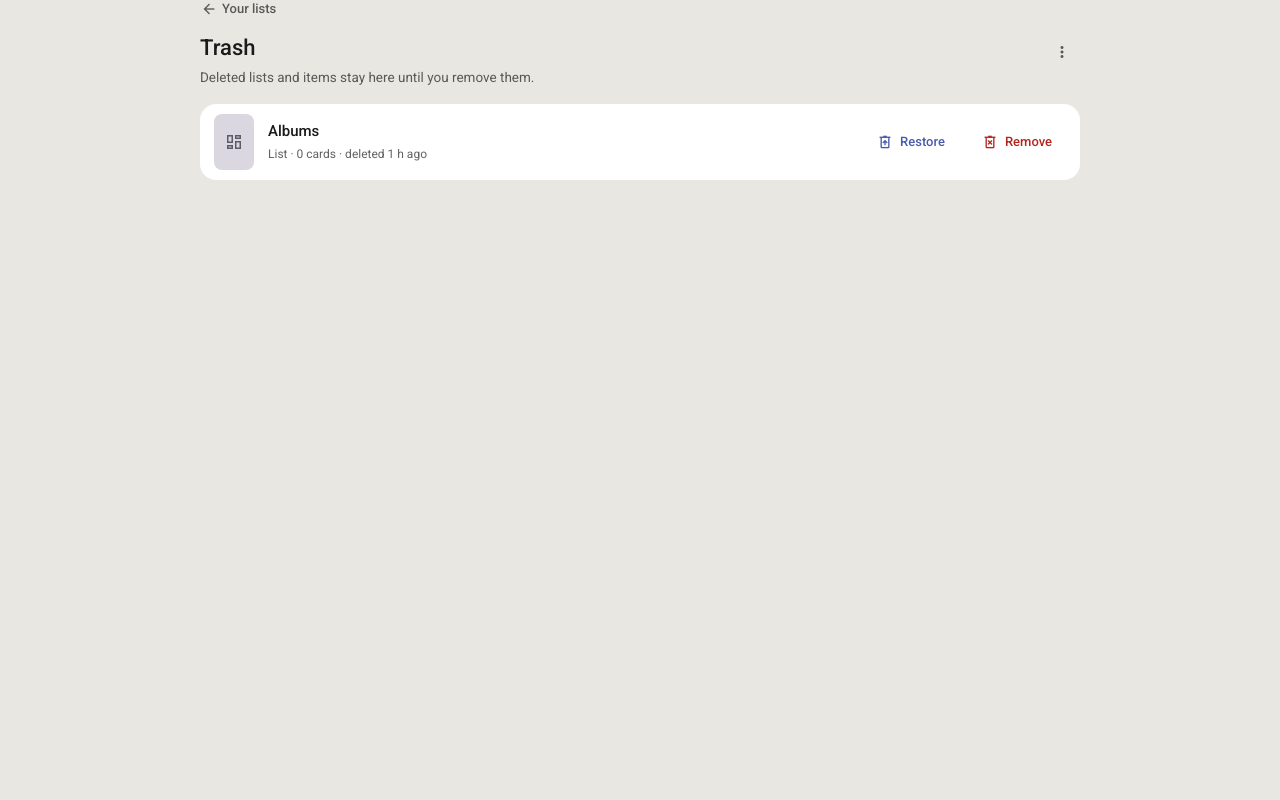
TrashPage › keeps a board in the trash, and says so, when its list could not be taken down
Click the button with aria-label "Remove Albums permanently". click: (1016, 142)
box: left=965, top=122, right=1068, bottom=162
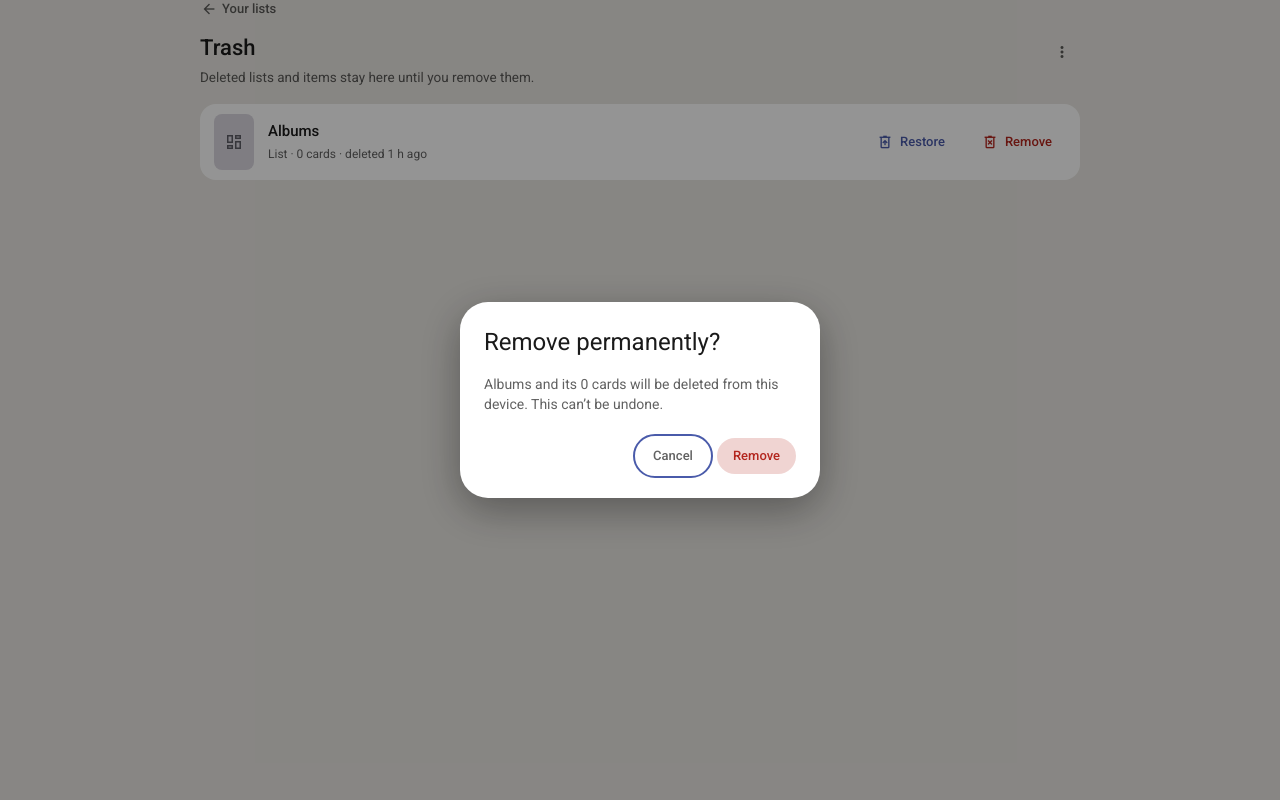
Click the button "Remove". click: (756, 456)
box: left=717, top=438, right=796, bottom=474
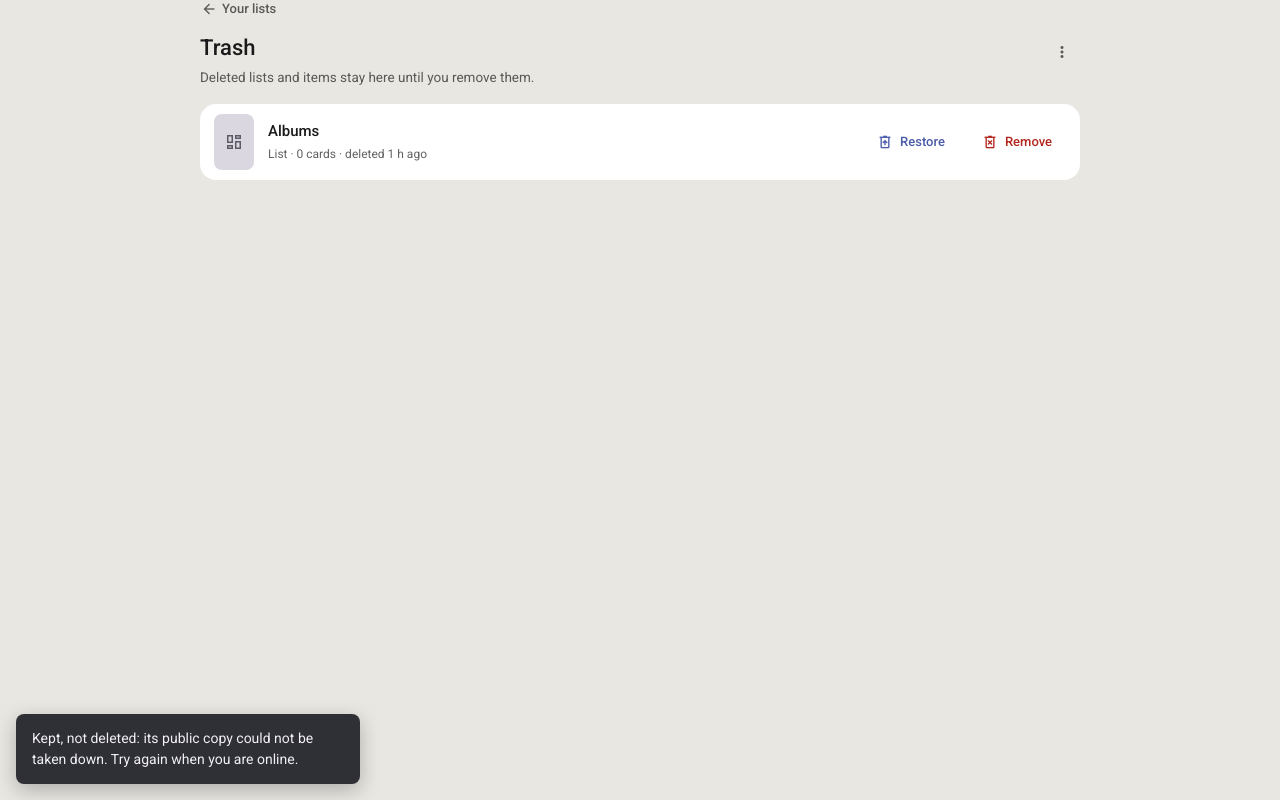
Check: the button with aria-label "Remove Albums permanently" is enabled, box left=965, top=122, right=1068, bottom=162
Check: the message shows "Kept, not deleted: its public copy could not be taken down. Try again when you are online.", box left=32, top=730, right=313, bottom=767
